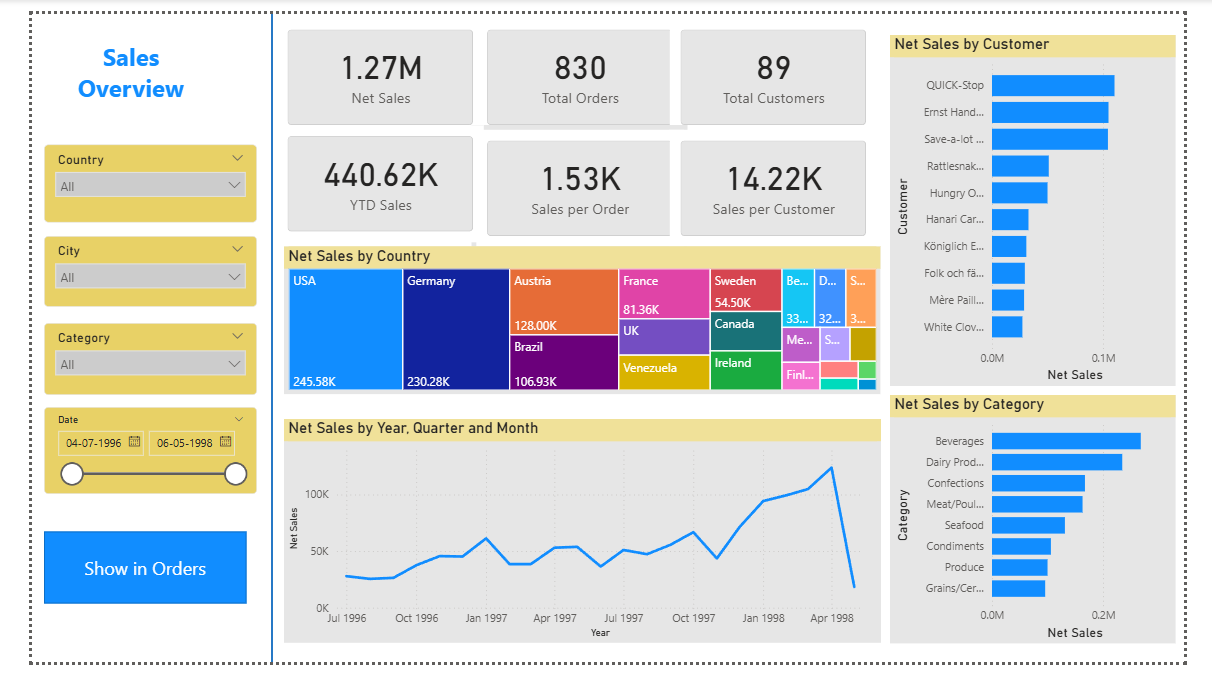

This screenshot's page, from the dashboard's own definition file:
{"tool":"powerbi","page":{"name":"Sales Overview","canvas":[1280,720],"ordinal":0},"visuals":[{"type":"slicer","fields":{"Values":["Customers.Country"]},"box":[13.3,145,236.7,86.7],"z":0},{"type":"slicer","fields":{"Values":["Customers.City"]},"box":[13.3,246.7,236.7,78.3],"z":1000},{"type":"slicer","fields":{"Values":["Categories.CategoryName"]},"box":[13.3,343.3,236.7,80],"z":2000},{"type":"slicer","fields":{"Values":["Date Table.Date"]},"box":[13.3,436.7,236.7,96.7],"z":3000},{"type":"textbox","box":[25,23.3,170,100],"z":4000},{"type":"shape","box":[238.3,0,56.7,720],"z":5000},{"type":"cardVisual","fields":{"Data":["Order_Details.Net Sales"]},"box":[266.7,0,240,140],"z":6000},{"type":"cardVisual","fields":{"Data":["Order_Details.Total Orders"]},"box":[488.3,0,240,140],"z":7000},{"type":"cardVisual","fields":{"Data":["Orders.Total Customers"]},"box":[703.3,0,240,140],"z":8000},{"type":"cardVisual","fields":{"Data":["Order_Details.Sales per Order"]},"box":[488.3,123.3,240,140],"z":9000},{"type":"cardVisual","fields":{"Data":["Order_Details.Sales per Customer"]},"box":[703.3,123.3,240,140],"z":10000},{"type":"cardVisual","fields":{"Data":["Order_Details.YTD Sales"]},"box":[266.7,118.3,240,140],"z":11000},{"type":"lineChart","fields":{"Category":["Date Table.Date.Variation.Date Hierarchy.Year","Date Table.Date.Variation.Date Hierarchy.Quarter","Date Table.Date.Variation.Date Hierarchy.Month","Date Table.Date.Variation.Date Hierarchy.Day"],"Y":["Order_Details.Net Sales"]},"box":[280,450,663.3,248.3],"z":12000},{"type":"clusteredBarChart","fields":{"Category":["Customers.CompanyName"],"Y":["Order_Details.Net Sales"]},"box":[952.9,22.9,317.1,390],"z":13000},{"type":"clusteredBarChart","fields":{"Y":["Order_Details.Net Sales"],"Category":["Categories.CategoryName"]},"box":[952.9,422.9,317.1,275.7],"z":14000},{"type":"treemap","fields":{"Group":["Customers.Country"],"Values":["Order_Details.Net Sales"]},"box":[280,258.6,662.9,164.3],"z":15000},{"type":"shape","box":[13.3,575,225,80],"z":16000}]}

Visuals, with their boxes in screenshot pixels (x1, y1, x2, y2), scaled from the page's 1280x720 canvas onto the 1212x677 screenshot:
slicer - Customers.Country: 13 136 237 218
slicer - Customers.City: 13 232 237 306
slicer - Categories.CategoryName: 13 323 237 398
slicer - Date Table.Date: 13 411 237 502
textbox: 24 22 185 116
shape: 226 0 279 676
cardVisual - Order_Details.Net Sales: 253 0 480 132
cardVisual - Order_Details.Total Orders: 462 0 690 132
cardVisual - Orders.Total Customers: 666 0 893 132
cardVisual - Order_Details.Sales per Order: 462 116 690 248
cardVisual - Order_Details.Sales per Customer: 666 116 893 248
cardVisual - Order_Details.YTD Sales: 253 111 480 243
lineChart - Date Table.Date.Variation.Date Hierarchy.Year x Date Table.Date.Variation.Date Hierarchy.Quarter: 265 423 893 657
clusteredBarChart - Customers.CompanyName x Order_Details.Net Sales: 902 22 1203 388
clusteredBarChart - Order_Details.Net Sales x Categories.CategoryName: 902 398 1203 657
treemap - Customers.Country x Order_Details.Net Sales: 265 243 893 398
shape: 13 541 226 616
